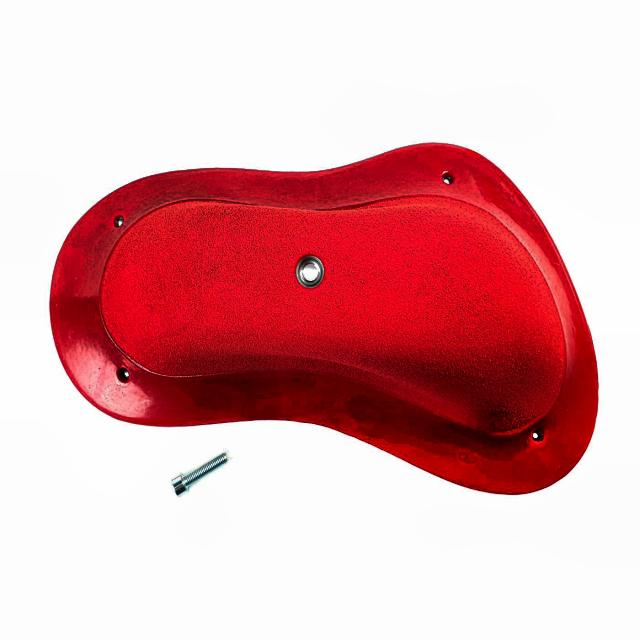Hold: (28, 129, 615, 518)
